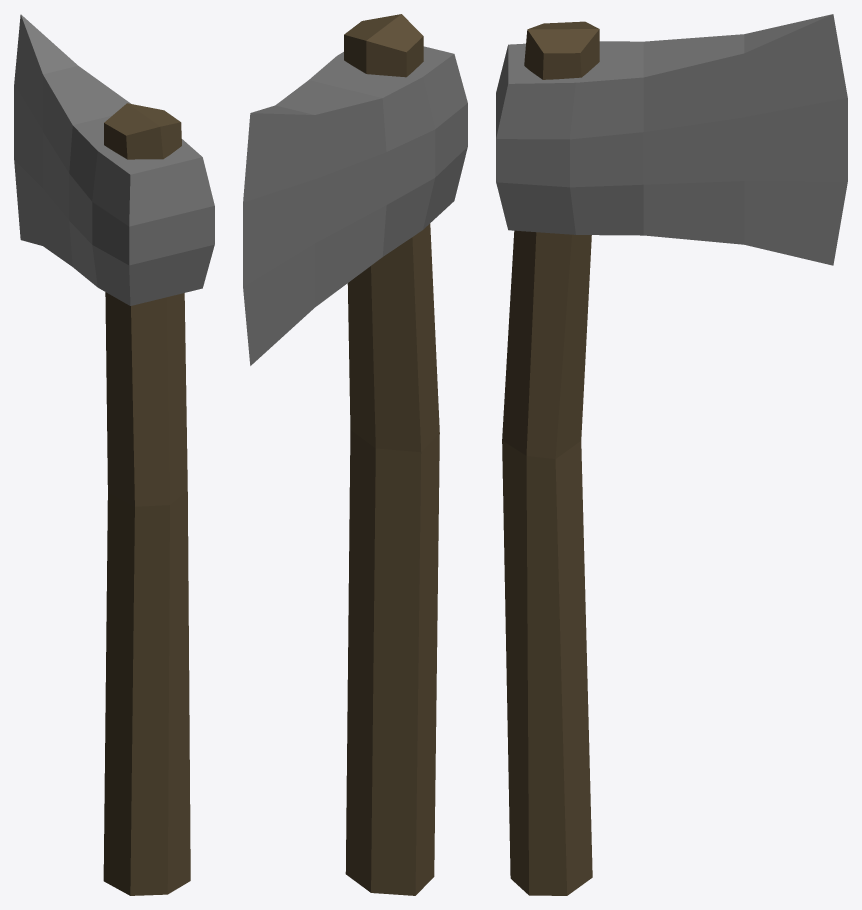
Rendered from axe.fbx.
3 views of the same model, side by side, from view 1: azimuth 30°, elevation 25°; view 2: azimuth 150°, elevation 25°; view 3: azimuth 270°, elevation 25° (orthographic). The views are drawn at different scales.
Parts seen in each view (by area): view 1: Cube.030; view 2: Cube.030; view 3: Cube.030.
Boxes of the visible parts, x1,y1,x2,y2 form: Cube.030: [14, 14, 214, 895]; Cube.030: [243, 14, 467, 895]; Cube.030: [496, 14, 847, 895].
Size of the model in its own units: 0.0752 by 0.5964 by 0.2202.
